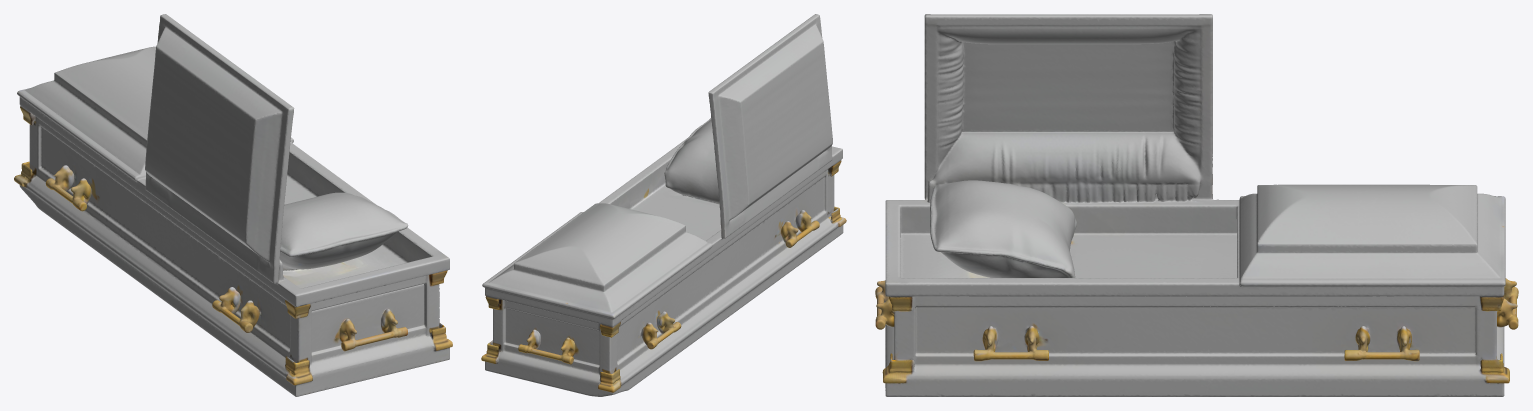
File: white_casket.glb
3 views of the same model, side by side, from view 1: azimuth 30°, elevation 25°; view 2: azimuth 150°, elevation 25°; view 3: azimuth 270°, elevation 25° (orthographic). The views are drawn at different scales.
Parts seen in each view (by area): view 1: tripo_node_8f97f0fe-98dd-4f6f-88a4-04215efedd29; view 2: tripo_node_8f97f0fe-98dd-4f6f-88a4-04215efedd29; view 3: tripo_node_8f97f0fe-98dd-4f6f-88a4-04215efedd29.
Boxes of the visible parts, left/top/right/bottom form: tripo_node_8f97f0fe-98dd-4f6f-88a4-04215efedd29: left=14, top=14, right=452, bottom=396; tripo_node_8f97f0fe-98dd-4f6f-88a4-04215efedd29: left=481, top=14, right=846, bottom=396; tripo_node_8f97f0fe-98dd-4f6f-88a4-04215efedd29: left=875, top=14, right=1518, bottom=396.
Size of the model in its own units: 0.3739 by 0.5239 by 1.
Materials: 1 (1 with a texture image).
